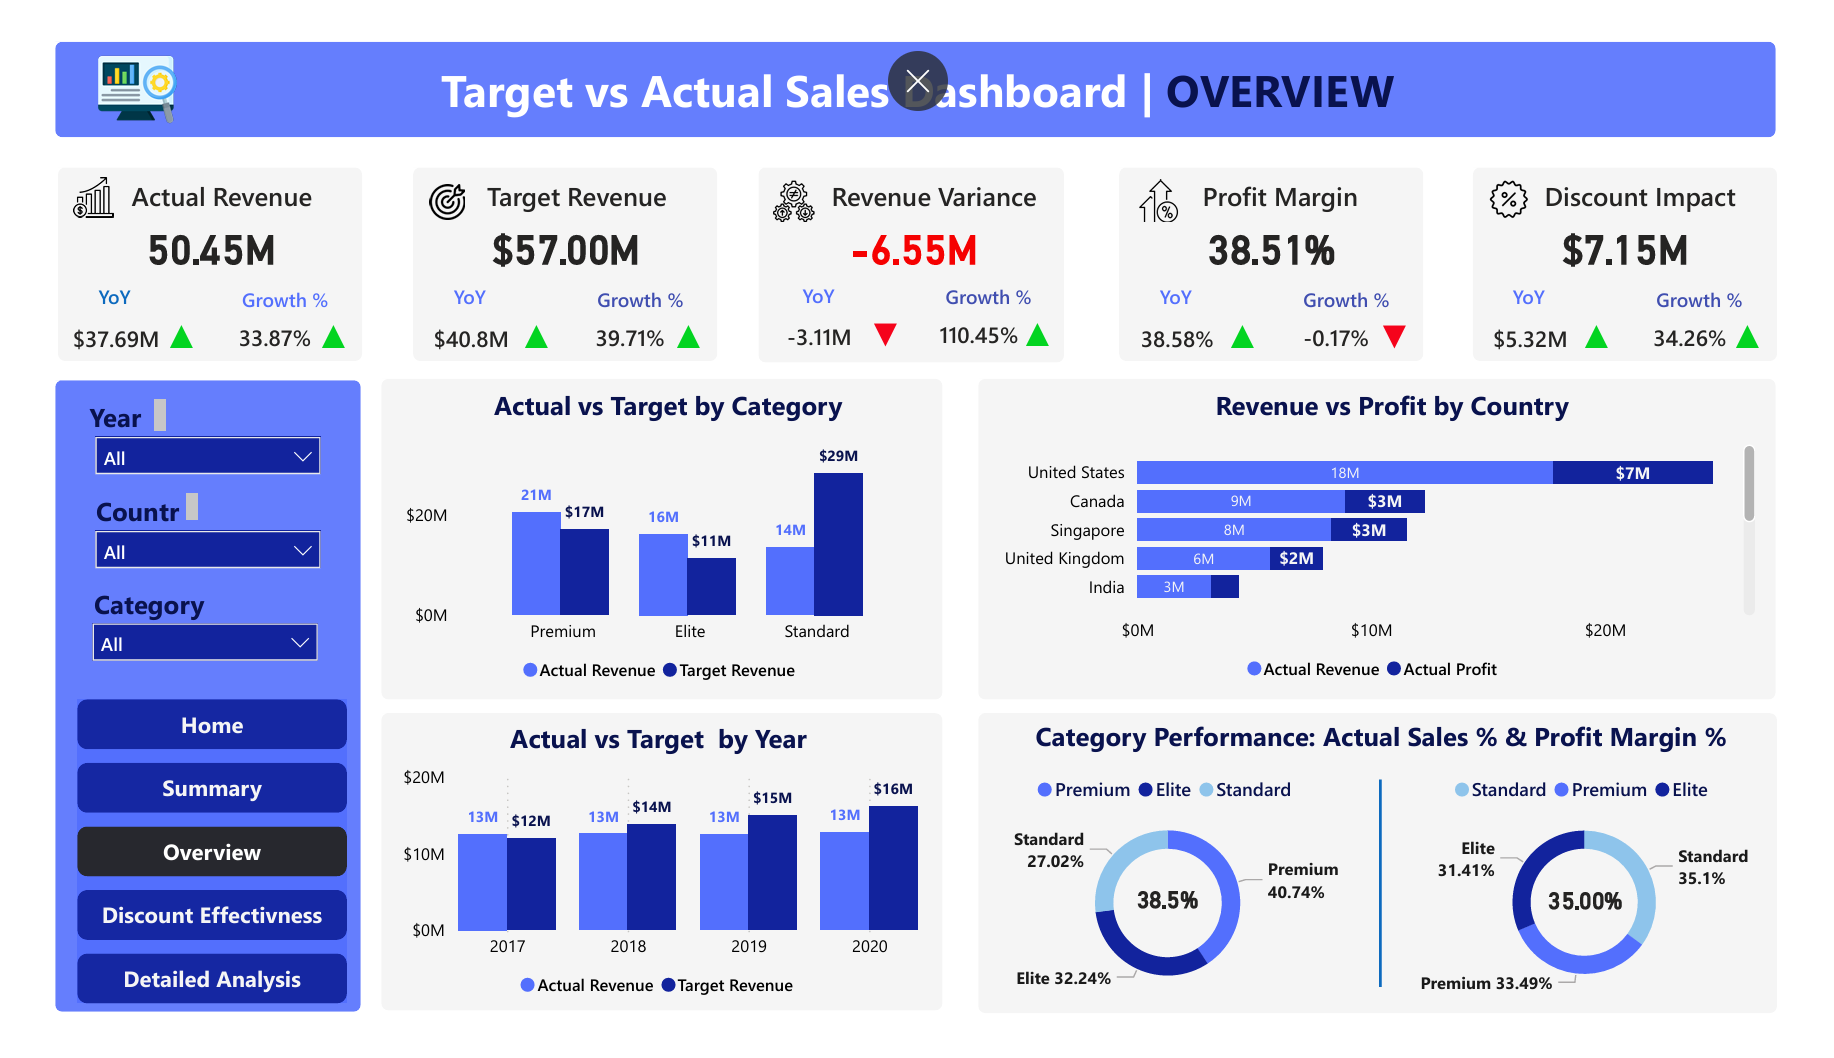

Layout of this report page (visuals, bound fields, positions):
{"tool":"powerbi","page":{"name":"Overview","canvas":[1280,720],"ordinal":2},"visuals":[{"type":"shape","box":[15.9,7.2,1245.1,69.3],"z":0},{"type":"shape","box":[18.2,98.1,220,140],"z":0,"group":"g1"},{"type":"shape","box":[275,98.1,220,140],"z":0,"group":"g2"},{"type":"shape","box":[785.8,98.1,220,140],"z":0,"group":"g3"},{"type":"card","fields":{"Values":["Calculation_col.Actual Sales"]},"box":[54.3,132.7,148.6,46.2],"z":1000,"group":"g1"},{"type":"card","fields":{"Values":["Calculation_col.Target Sales"]},"box":[311.1,132.7,148.6,46.2],"z":1000,"group":"g2"},{"type":"card","fields":{"Values":["Calculation_col.Profit Margin"]},"box":[821.9,132.7,148.6,46.2],"z":1000,"group":"g3"},{"type":"shape","box":[16.2,252.1,220.7,457.4],"z":1000},{"type":"textbox","box":[62.9,101,147.2,34.6],"z":2000,"group":"g1"},{"type":"textbox","box":[319.7,101,147.2,34.6],"z":2000,"group":"g2"},{"type":"textbox","box":[829.1,101,147.2,34.6],"z":2000,"group":"g3"},{"type":"textbox","box":[26,260.7,75,34.6],"z":2000},{"type":"card","fields":{"Values":["Calculation_col.YoY Sales"]},"box":[18.2,209.2,83.7,30.3],"z":3000,"group":"g1"},{"type":"card","fields":{"Values":["Calculation_col.YoY Target Sales"]},"box":[275,209.2,83.7,30.3],"z":3000,"group":"g2"},{"type":"card","fields":{"Values":["Calculation_col.YoY Profit M"]},"box":[785.8,209.2,83.7,30.3],"z":3000,"group":"g3"},{"type":"textbox","box":[18.8,396.3,129.8,34.6],"z":3000},{"type":"shape","box":[1041.7,98.1,220,140],"z":4000},{"type":"card","fields":{"Values":["Calculation_col.YoY Growth Sales %"]},"box":[133.6,209.2,83.7,27.4],"z":4000,"group":"g1"},{"type":"card","fields":{"Values":["Calculation_col.YoY Target Growth Sales %"]},"box":[390.4,209.2,83.7,27.4],"z":4000,"group":"g2"},{"type":"card","fields":{"Values":["Calculation_col.YoY profit m growth %"]},"box":[901.2,209.2,83.7,27.4],"z":4000,"group":"g3"},{"type":"textbox","box":[19.6,177.5,79.4,31.7],"z":5000,"group":"g1"},{"type":"textbox","box":[276.4,177.5,79.4,31.7],"z":5000,"group":"g2"},{"type":"textbox","box":[787.2,177.5,79.4,31.7],"z":5000,"group":"g3"},{"type":"textbox","box":[34.6,328.5,89.5,34.6],"z":5000},{"type":"textbox","box":[137.9,178.9,89.5,31.7],"z":6000,"group":"g1"},{"type":"textbox","box":[394.7,178.9,89.5,31.7],"z":6000,"group":"g2"},{"type":"textbox","box":[905.5,178.9,89.5,31.7],"z":6000,"group":"g3"},{"type":"shape","box":[683.9,493.4,578.5,216.4],"z":6000},{"type":"card","fields":{"Values":["Calculation_col.Sales_icon"]},"box":[86,203.4,43.3,34.6],"z":7000,"group":"g1"},{"type":"card","fields":{"Values":["Calculation_col.Target 1_icon"]},"box":[342.8,203.4,43.3,34.6],"z":7000,"group":"g2"},{"type":"card","fields":{"Values":["Calculation_col.PM YoY 1"]},"box":[853.6,203.4,43.3,34.6],"z":7000,"group":"g3"},{"type":"card","fields":{"Values":["Calculation_col.Target Profit %"]},"box":[1090.7,616.1,64.9,27.4],"z":7000},{"type":"card","fields":{"Values":["Calculation_col.Sales_2 icon"]},"box":[195.7,203.4,43.3,34.6],"z":8000,"group":"g1"},{"type":"card","fields":{"Values":["Calculation_col.Target 2_icon"]},"box":[452.5,203.4,43.3,34.6],"z":8000,"group":"g2"},{"type":"card","fields":{"Values":["Calculation_col.PM YoY 2"]},"box":[963.3,203.4,43.3,34.6],"z":8000,"group":"g3"},{"type":"card","fields":{"Values":["Calculation_col.Actual Profit %"]},"box":[787.7,614.6,66.4,27.4],"z":8000},{"type":"shape","box":[252.5,251,405.4,232.3],"z":9000},{"type":"shape","box":[683.9,251,577.1,232.3],"z":10000},{"type":"shape","box":[525.2,98.1,220.7,141.4],"z":11000},{"type":"card","fields":{"Values":["Calculation_col.Discount Impact"]},"box":[1077.7,132.7,148.6,46.2],"z":12000},{"type":"textbox","box":[15.3,14.4,1249.4,73.6],"z":13000},{"type":"card","fields":{"Values":["Calculation_col.Sales Varience"]},"box":[562.7,132.7,148.6,46.2],"z":14000},{"type":"textbox","box":[559.8,101,178.9,39],"z":15000},{"type":"textbox","box":[1082.1,101,161.6,34.6],"z":16000},{"type":"card","fields":{"Values":["Calculation_col.YoY Sales Variance"]},"box":[527.2,207.3,83.7,30.3],"z":17000},{"type":"card","fields":{"Values":["Calculation_col.YoY Discount"]},"box":[1041.7,209.2,83.7,30.3],"z":18000},{"type":"group","id":"g1","title":"Group 1","box":[18.2,98.1,220.7,141.4],"z":19000},{"type":"card","fields":{"Values":["Calculation_col.YoY Discount Growth %"]},"box":[1157.1,209.2,83.7,27.4],"z":20000},{"type":"card","fields":{"Values":["Calculation_col.YoY Sales Variance %"]},"box":[642.6,207.3,83.7,27.4],"z":21000},{"type":"textbox","box":[1043.1,177.5,79.4,31.7],"z":22000},{"type":"group","id":"g2","title":"Group 1","box":[275,98.1,220.7,141.4],"z":23000},{"type":"textbox","box":[1161.4,178.9,89.5,31.7],"z":24000},{"type":"textbox","box":[528.6,175.6,79.4,31.7],"z":25000},{"type":"card","fields":{"Values":["Calculation_col.Discount 1_icon"]},"box":[1109.5,203.4,43.3,34.6],"z":26000},{"type":"card","fields":{"Values":["Calculation_col.Discount 2_icon"]},"box":[1219.1,203.4,43.3,34.6],"z":27000},{"type":"textbox","box":[646.9,177,89.5,31.7],"z":28000},{"type":"card","fields":{"Values":["Calculation_col.Variance 2_icon"]},"box":[704.6,201.5,43.3,34.6],"z":29000},{"type":"card","fields":{"Values":["Calculation_col.VAriance 1_icon"]},"box":[595,201.5,43.3,34.6],"z":30000},{"type":"group","id":"g3","title":"Group 1","box":[785.8,98.1,220.7,141.4],"z":31000},{"type":"shape","box":[252.5,493.4,405.4,215],"z":32000},{"type":"barChart","fields":{"Y":["Calculation_col.Actual Sales","Calculation_col.Actual Profit"],"Category":["fact_actual_sales.country"]},"box":[691.1,285.7,559.8,193.3],"z":33000},{"type":"clusteredColumnChart","fields":{"Y":["Calculation_col.Actual Sales","Calculation_col.Target Sales"],"Category":["Dim_product_detail.Product_Category"]},"box":[264,285.7,382.3,194.8],"z":34000},{"type":"textbox","box":[266.9,252.5,385.2,40.4],"z":35000},{"type":"textbox","box":[790.6,252.5,385.2,40.4],"z":36000},{"type":"clusteredColumnChart","fields":{"Y":["Calculation_col.Actual Sales","Calculation_col.Target Sales"],"Category":["Calender.Year"]},"box":[262.3,525.2,382.3,183.2],"z":37000},{"type":"textbox","box":[259.7,493.4,385.2,40.4],"z":38000},{"type":"donutChart","fields":{"Y":["Calculation_col.Actual Sales"],"Category":["Dim_product_detail.Product_Category"]},"box":[685.3,528.1,271.2,176],"z":39000},{"type":"donutChart","fields":{"Category":["Dim_product_detail.Product_Category"],"Y":["Calculation_col.Profit Margin"]},"box":[994.1,528.1,256.8,174.6],"z":40000},{"type":"textbox","box":[683.9,492,582.9,40.4],"z":41000},{"type":"shape","box":[900.3,541,150,150],"z":42000},{"type":"pageNavigator","box":[31.7,483.3,194.8,219.3],"z":43000},{"type":"slicer","fields":{"Values":["fact_actual_sales.country"]},"box":[34.6,350.5,183.2,41.8],"z":44000},{"type":"slicer","fields":{"Values":["Dim_product_detail.Product_Category"]},"box":[33.2,418,183.2,41.8],"z":45000},{"type":"slicer","fields":{"Values":["Calender.Year"]},"box":[34.6,283.1,183.2,41.8],"z":46000},{"type":"image","box":[1046,101,43.3,40.4],"z":47000},{"type":"image","box":[789.2,102.4,50.5,40.4],"z":48000},{"type":"image","box":[14.4,99.6,57.7,39],"z":49000},{"type":"image","box":[279.9,105.3,39,36.1],"z":50000},{"type":"image","box":[526.6,102.4,47.6,40.4],"z":51000},{"type":"image","box":[0,7.2,150,69.3],"z":52000}]}

Visuals, with their boxes in screenshot pixels (x1, y1, x2, y2), scaled from the page's 1280x720 canvas onto the 1834x1058 screenshot:
shape: Rect(23, 11, 1807, 112)
shape: Rect(26, 144, 341, 350)
shape: Rect(394, 144, 709, 350)
shape: Rect(1126, 144, 1441, 350)
card - Calculation_col.Actual Sales: Rect(78, 195, 291, 263)
card - Calculation_col.Target Sales: Rect(446, 195, 659, 263)
card - Calculation_col.Profit Margin: Rect(1178, 195, 1391, 263)
shape: Rect(23, 370, 339, 1043)
textbox: Rect(90, 148, 301, 199)
textbox: Rect(458, 148, 669, 199)
textbox: Rect(1188, 148, 1399, 199)
textbox: Rect(37, 383, 145, 434)
card - Calculation_col.YoY Sales: Rect(26, 307, 146, 352)
card - Calculation_col.YoY Target Sales: Rect(394, 307, 514, 352)
card - Calculation_col.YoY Profit M: Rect(1126, 307, 1246, 352)
textbox: Rect(27, 582, 213, 633)
shape: Rect(1493, 144, 1808, 350)
card - Calculation_col.YoY Growth Sales %: Rect(191, 307, 311, 348)
card - Calculation_col.YoY Target Growth Sales %: Rect(559, 307, 679, 348)
card - Calculation_col.YoY profit m growth %: Rect(1291, 307, 1411, 348)
textbox: Rect(28, 261, 142, 307)
textbox: Rect(396, 261, 510, 307)
textbox: Rect(1128, 261, 1242, 307)
textbox: Rect(50, 483, 178, 534)
textbox: Rect(198, 263, 326, 309)
textbox: Rect(566, 263, 694, 309)
textbox: Rect(1297, 263, 1426, 309)
shape: Rect(980, 725, 1809, 1043)
card - Calculation_col.Sales_icon: Rect(123, 299, 185, 350)
card - Calculation_col.Target 1_icon: Rect(491, 299, 553, 350)
card - Calculation_col.PM YoY 1: Rect(1223, 299, 1285, 350)
card - Calculation_col.Target Profit %: Rect(1563, 905, 1656, 946)
card - Calculation_col.Sales_2 icon: Rect(280, 299, 342, 350)
card - Calculation_col.Target 2_icon: Rect(648, 299, 710, 350)
card - Calculation_col.PM YoY 2: Rect(1380, 299, 1442, 350)
card - Calculation_col.Actual Profit %: Rect(1129, 903, 1224, 943)
shape: Rect(362, 369, 943, 710)
shape: Rect(980, 369, 1807, 710)
shape: Rect(753, 144, 1069, 352)
card - Calculation_col.Discount Impact: Rect(1544, 195, 1757, 263)
textbox: Rect(22, 21, 1812, 129)
card - Calculation_col.Sales Varience: Rect(806, 195, 1019, 263)
textbox: Rect(802, 148, 1058, 206)
textbox: Rect(1550, 148, 1782, 199)
card - Calculation_col.YoY Sales Variance: Rect(755, 305, 875, 349)
card - Calculation_col.YoY Discount: Rect(1493, 307, 1612, 352)
"Group 1" group: Rect(26, 144, 342, 352)
card - Calculation_col.YoY Discount Growth %: Rect(1658, 307, 1778, 348)
card - Calculation_col.YoY Sales Variance %: Rect(921, 305, 1041, 345)
textbox: Rect(1495, 261, 1608, 307)
"Group 1" group: Rect(394, 144, 710, 352)
textbox: Rect(1664, 263, 1792, 309)
textbox: Rect(757, 258, 871, 305)
card - Calculation_col.Discount 1_icon: Rect(1590, 299, 1652, 350)
card - Calculation_col.Discount 2_icon: Rect(1747, 299, 1809, 350)
textbox: Rect(927, 260, 1055, 307)
card - Calculation_col.Variance 2_icon: Rect(1010, 296, 1072, 347)
card - Calculation_col.VAriance 1_icon: Rect(853, 296, 915, 347)
"Group 1" group: Rect(1126, 144, 1442, 352)
shape: Rect(362, 725, 943, 1041)
barChart - Calculation_col.Actual Sales x Calculation_col.Actual Profit: Rect(990, 420, 1792, 704)
clusteredColumnChart - Calculation_col.Actual Sales x Calculation_col.Target Sales: Rect(378, 420, 926, 706)
textbox: Rect(382, 371, 934, 430)
textbox: Rect(1133, 371, 1685, 430)
clusteredColumnChart - Calculation_col.Actual Sales x Calculation_col.Target Sales: Rect(376, 772, 924, 1041)
textbox: Rect(372, 725, 924, 784)
donutChart - Calculation_col.Actual Sales x Dim_product_detail.Product_Category: Rect(982, 776, 1370, 1035)
donutChart - Dim_product_detail.Product_Category x Calculation_col.Profit Margin: Rect(1424, 776, 1792, 1033)
textbox: Rect(980, 723, 1815, 782)
shape: Rect(1290, 795, 1505, 1015)
pageNavigator: Rect(45, 710, 325, 1032)
slicer - fact_actual_sales.country: Rect(50, 515, 312, 576)
slicer - Dim_product_detail.Product_Category: Rect(48, 614, 310, 676)
slicer - Calender.Year: Rect(50, 416, 312, 477)
image: Rect(1499, 148, 1561, 208)
image: Rect(1131, 150, 1203, 210)
image: Rect(21, 146, 103, 204)
image: Rect(401, 155, 457, 208)
image: Rect(755, 150, 823, 210)
image: Rect(0, 11, 215, 112)
